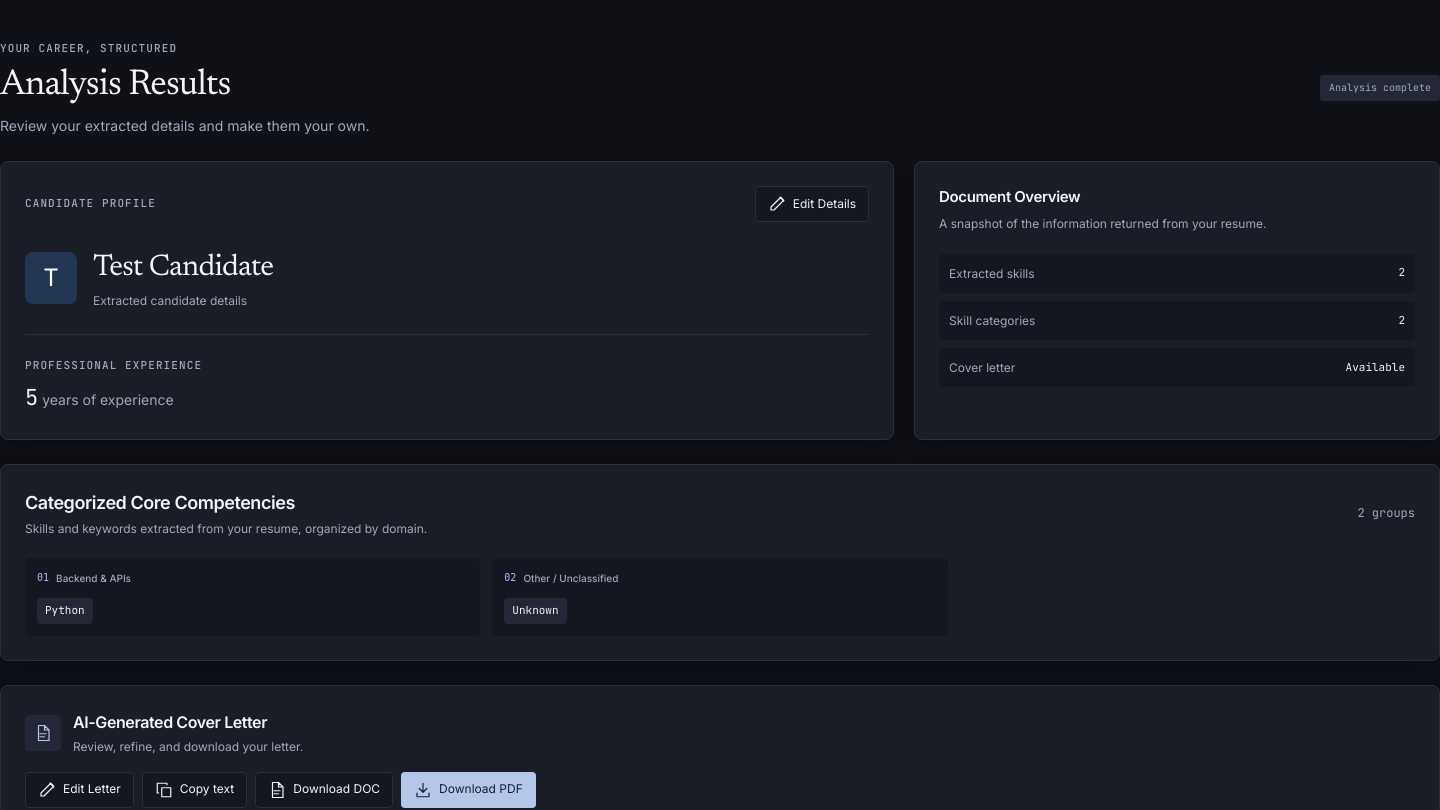
Test case: shows an actionable export error
Click the button "Download PDF" at (468, 790), box [401, 772, 536, 808]
(page scrolled)
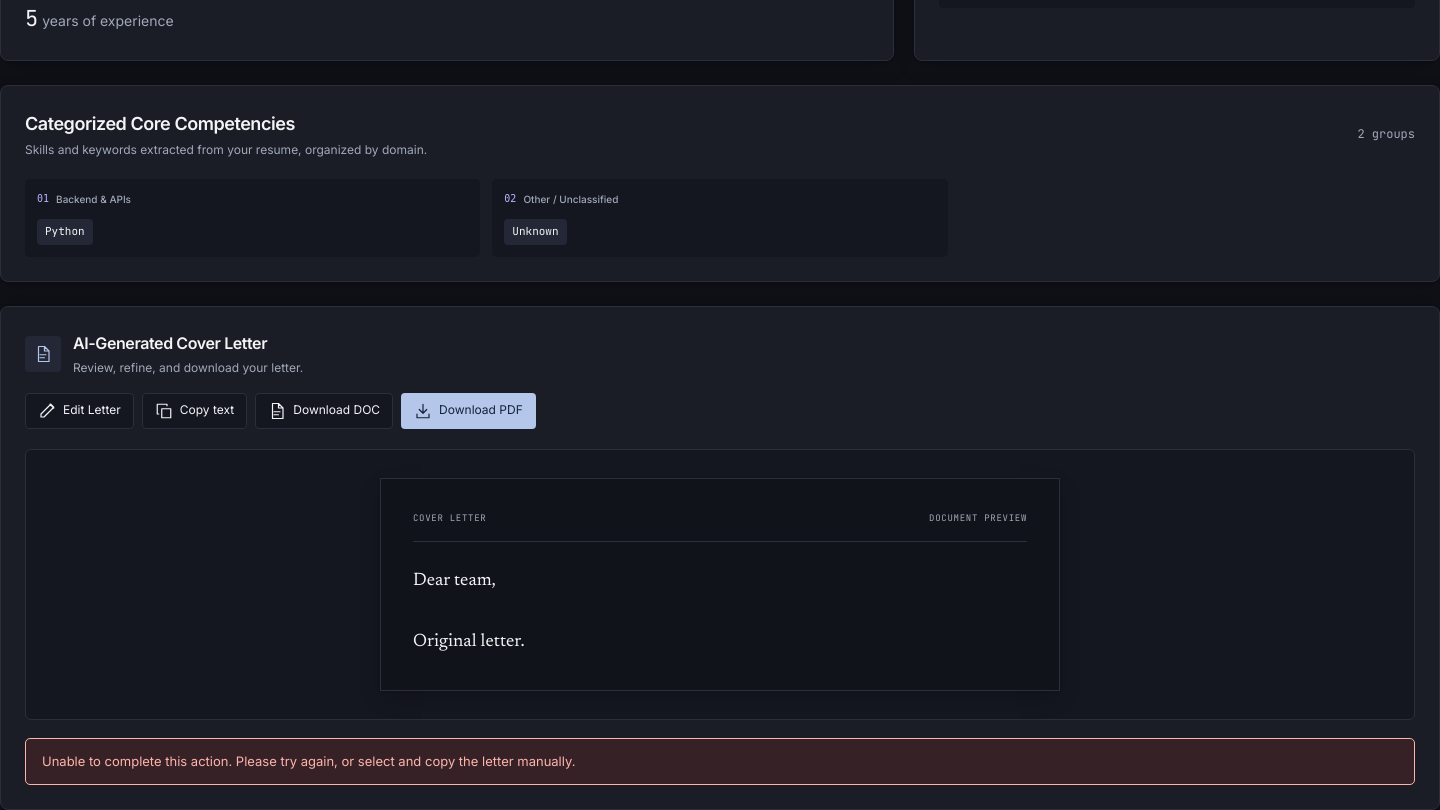
Expected: the text "Unable to complete" does not show "private details", [25, 738, 1415, 785]
Now the text "Unable to complete" is shown, box [42, 753, 576, 769]
